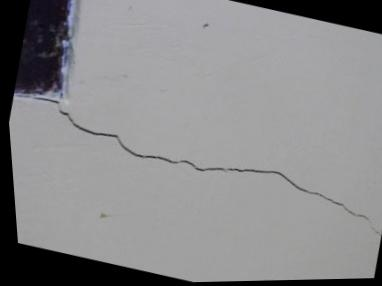crack: (32, 97, 377, 239)
